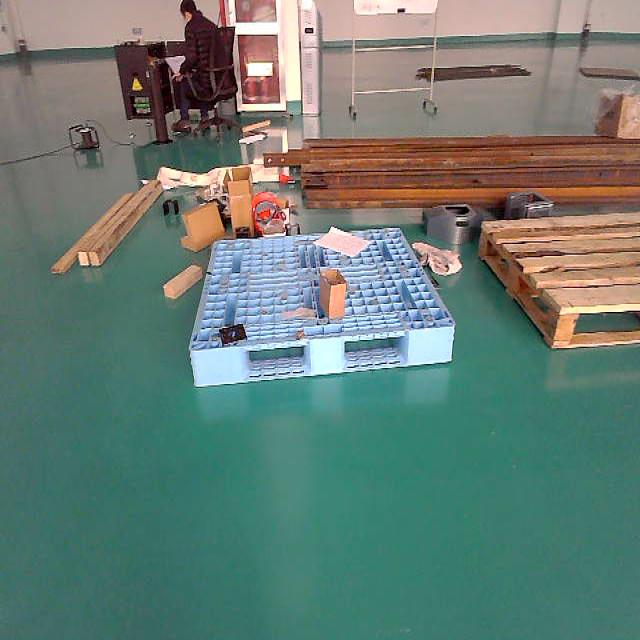euro: (482, 216, 640, 345)
